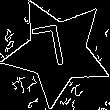L_S: (37, 24, 77, 79)
